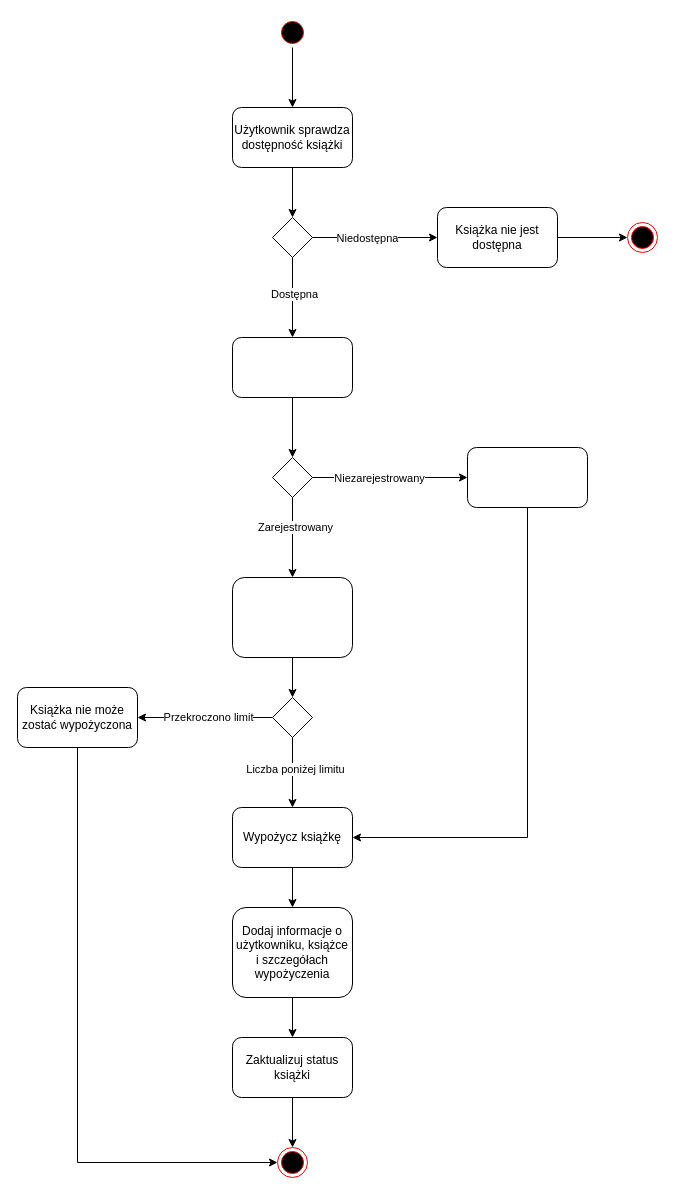
The diagram is 675 pixels wide and 1195 high, and some of its shapes have lost their labels. The centre of each missing label's shape, as x and y in pixels:
Sprawdź liczbę książek wypożyczonych przez użytkownika: point 292,617
Walidacja użytkownika: point 292,367
Zarejestruj użytkownika: point 527,477
